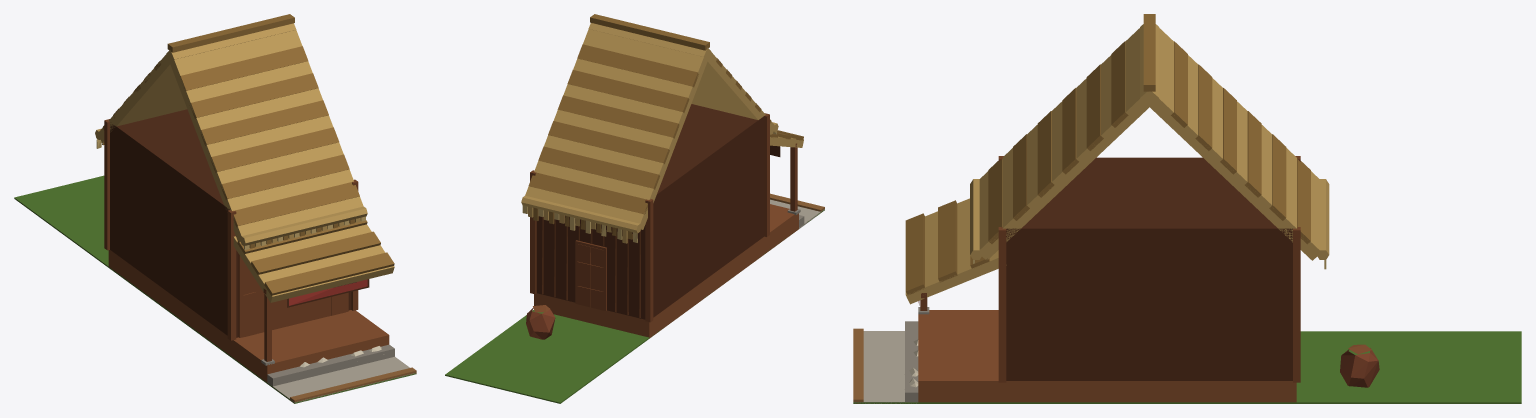
Rendered from bay2_mid.glb.
The picture shows the model from 3 angles, left to right: view 1: azimuth 30°, elevation 25°; view 2: azimuth 150°, elevation 25°; view 3: azimuth 270°, elevation 25°; orthographic projection. The views are drawn at different scales.
Parts seen in each view (by area): view 1: body; view 2: body; view 3: body.
Boxes of the visible parts, x1,y1,x2,y2 form: body: [14, 14, 416, 403]; body: [445, 14, 824, 403]; body: [853, 14, 1521, 403].
Size of the model in its own units: 4.18 by 8.38 by 15.9.
